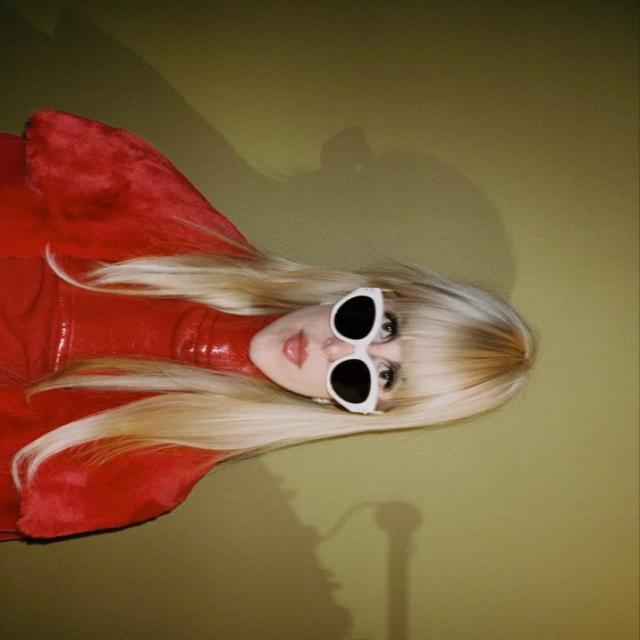glasses: (324, 284, 392, 419)
